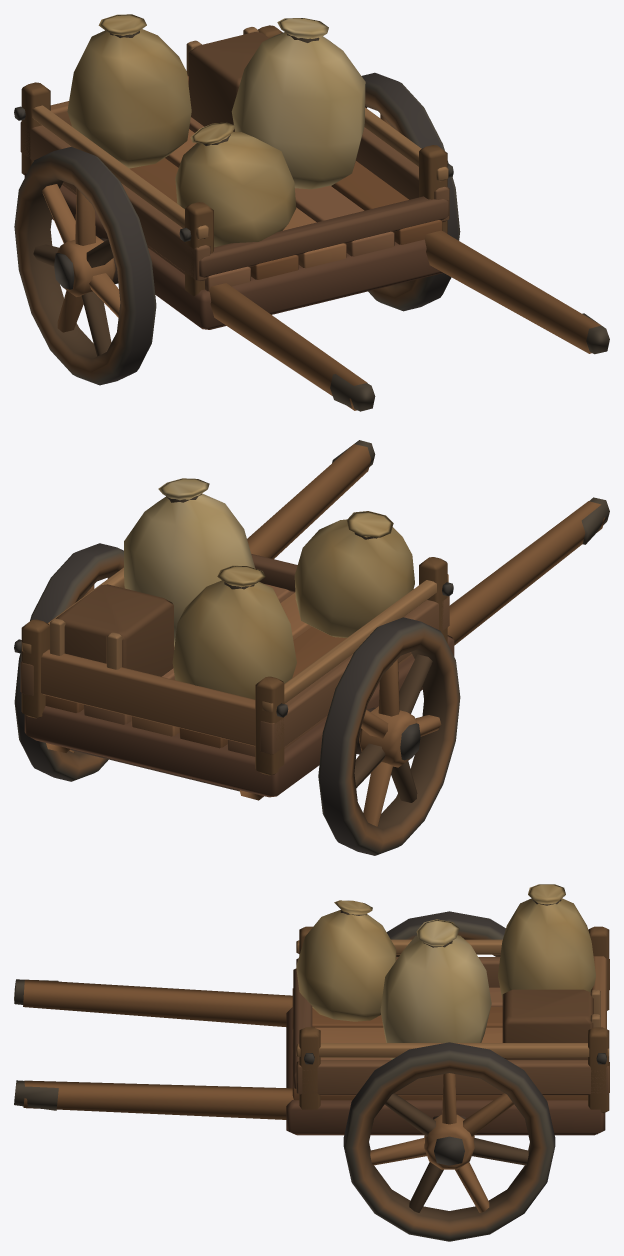
Rendered from erzak-arabasi.glb.
3 views of the same model, one above another, from view 1: azimuth 30°, elevation 25°; view 2: azimuth 150°, elevation 25°; view 3: azimuth 270°, elevation 25° (orthographic). The views are drawn at different scales.
Visible parts, largest first — view 1: ErzakArabasiMesh, TekerlekSolMesh, Cuval02Mesh, Cuval01Mesh, Cuval03Mesh, TekerlekSagMesh, SandikMesh; view 2: ErzakArabasiMesh, TekerlekSolMesh, Cuval01Mesh, Cuval02Mesh, Cuval03Mesh, SandikMesh, TekerlekSagMesh; view 3: ErzakArabasiMesh, TekerlekSagMesh, Cuval02Mesh, Cuval03Mesh, Cuval01Mesh, SandikMesh, TekerlekSolMesh.
Boxes of the visible parts, left/top/right/bottom form: ErzakArabasiMesh: left=14, top=25, right=609, bottom=411; TekerlekSolMesh: left=14, top=147, right=156, bottom=385; Cuval02Mesh: left=231, top=18, right=365, bottom=189; Cuval01Mesh: left=67, top=14, right=191, bottom=168; Cuval03Mesh: left=175, top=122, right=296, bottom=247; TekerlekSagMesh: left=361, top=72, right=460, bottom=311; SandikMesh: left=186, top=27, right=269, bottom=131; ErzakArabasiMesh: left=14, top=440, right=609, bottom=800; TekerlekSolMesh: left=318, top=617, right=460, bottom=855; Cuval01Mesh: left=172, top=565, right=296, bottom=699; Cuval02Mesh: left=124, top=478, right=255, bottom=646; Cuval03Mesh: left=294, top=511, right=414, bottom=637; SandikMesh: left=50, top=584, right=173, bottom=676; TekerlekSagMesh: left=14, top=543, right=123, bottom=781; ErzakArabasiMesh: left=14, top=926, right=609, bottom=1135; TekerlekSagMesh: left=343, top=1042, right=555, bottom=1241; Cuval02Mesh: left=380, top=919, right=491, bottom=1059; Cuval03Mesh: left=296, top=900, right=396, bottom=1021; Cuval01Mesh: left=498, top=884, right=595, bottom=999; SandikMesh: left=502, top=989, right=600, bottom=1059; TekerlekSolMesh: left=386, top=911, right=505, bottom=956.
Size of the model in its own units: 1.42 by 1.19 by 2.37.
